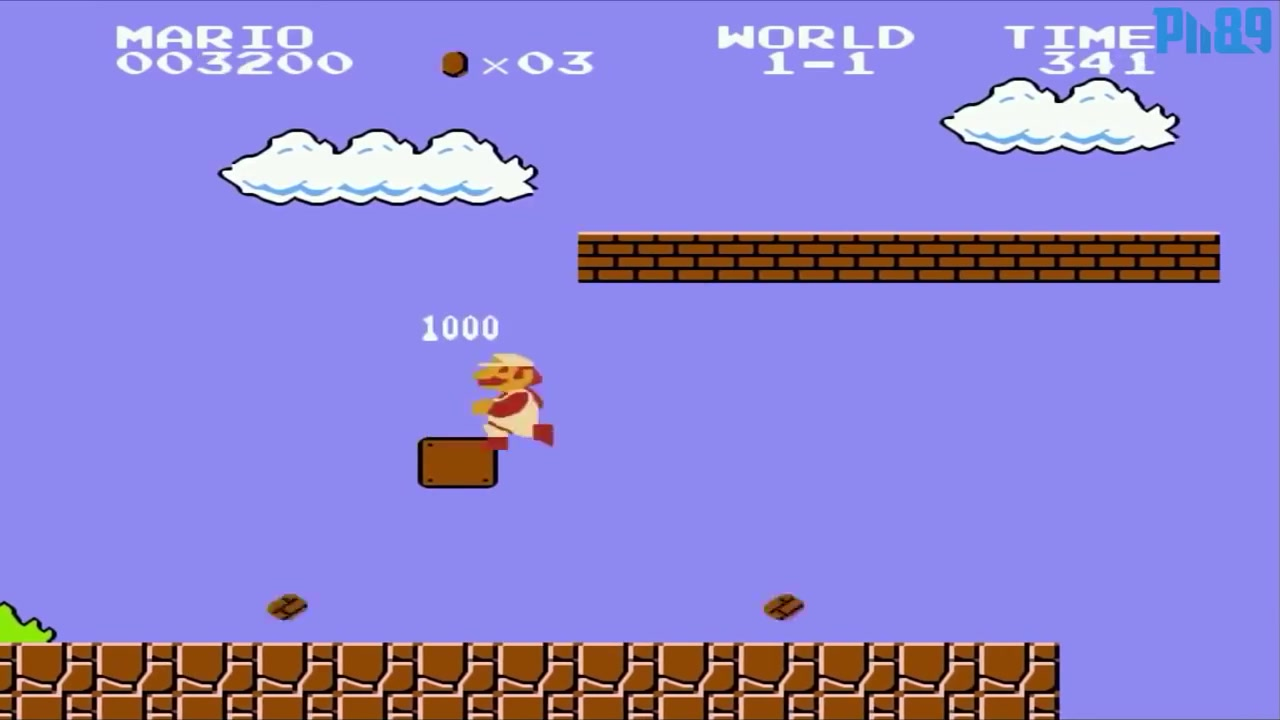mario: (456, 345, 574, 460)
